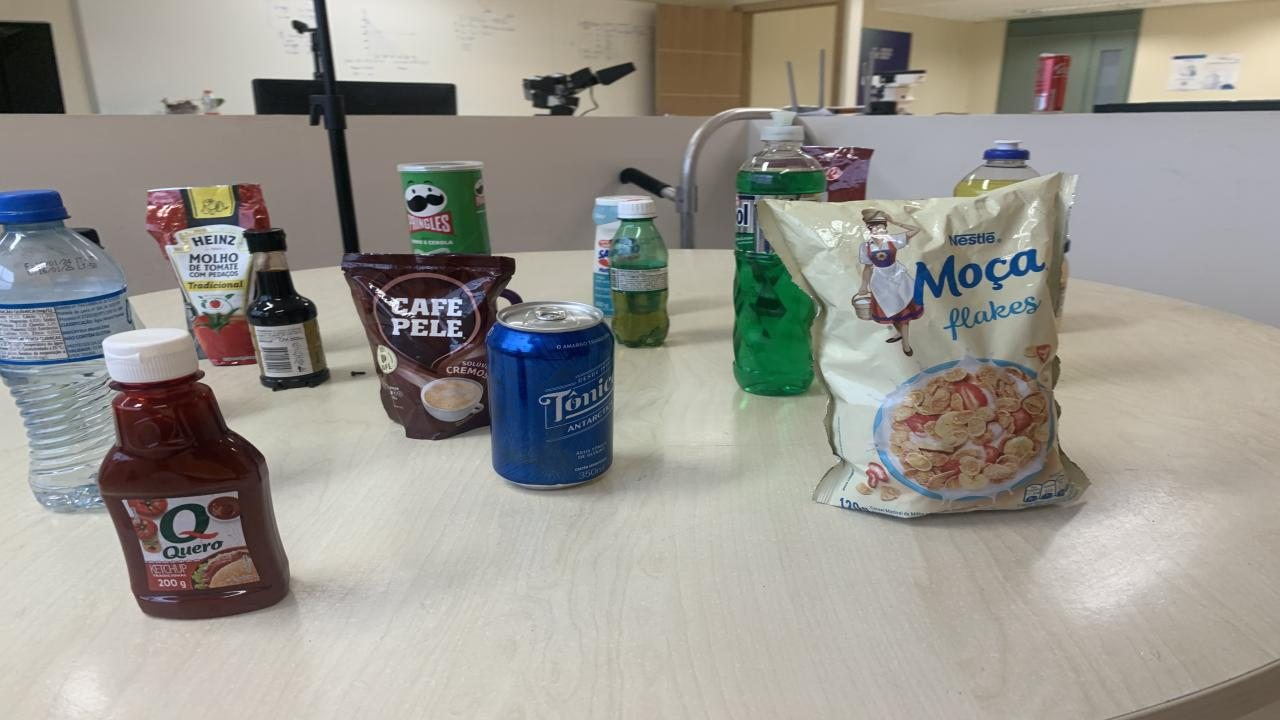Cleaner-Cleanup_Items: (592, 195, 648, 315)
Coffee-Pantry_Items: (342, 253, 515, 439)
Detergent-Cleanup_Items: (732, 111, 828, 396), (952, 141, 1040, 197)
English_Sauce-Pantry_Items: (242, 229, 330, 390)
Flakes-Snacks: (758, 172, 1088, 518)
Guarana-Drinks: (610, 199, 670, 347)
Ketchup-Pantry_Items: (98, 328, 290, 619)
Pringles-Snacks: (398, 161, 490, 255)
Tomato_Sauce-Pantry_Items: (148, 184, 270, 366), (802, 146, 872, 202)
Tonic-Drinks: (485, 302, 615, 489)
Water_Bottle-Drinks: (0, 189, 132, 512)
